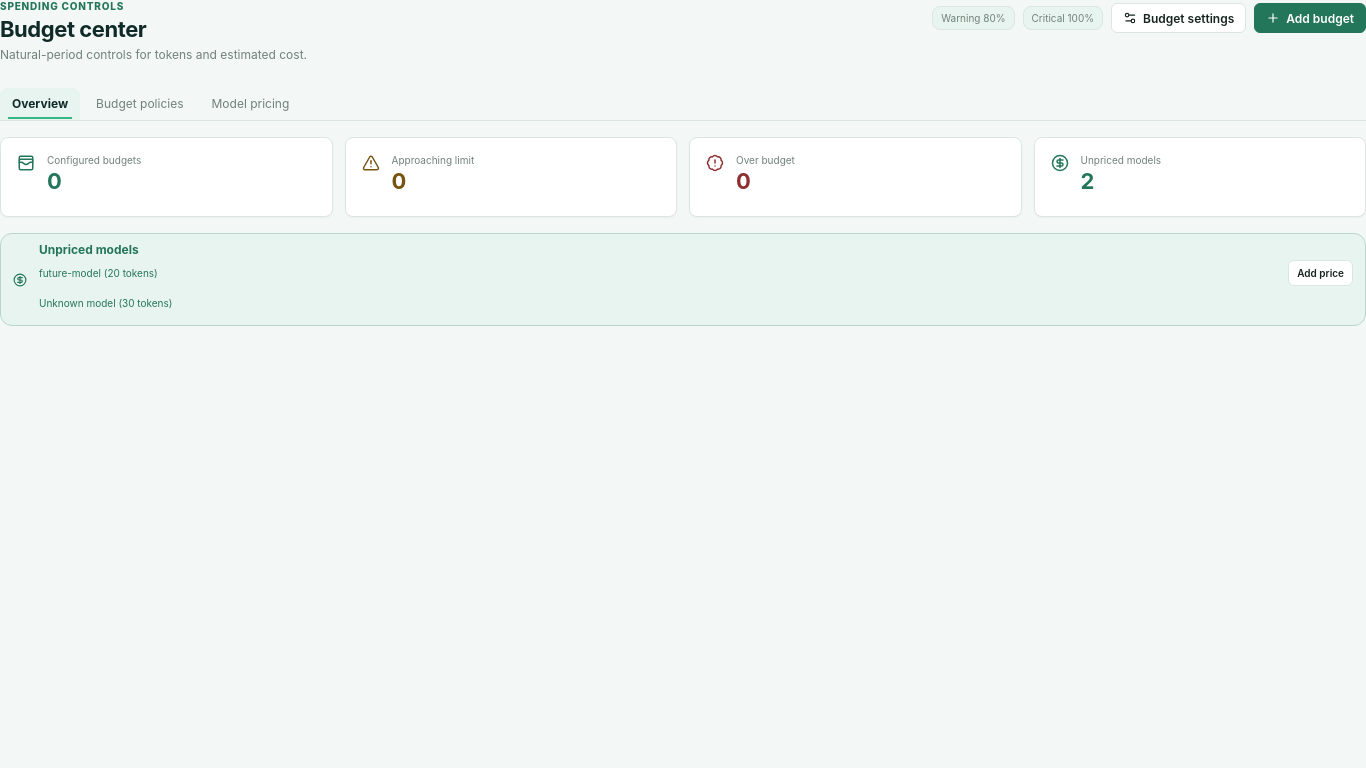
Scenario: BudgetsView model options › navigates from an unpriced alert to a prefilled pricing editor
Step 1. Click the button "Add price" → (1321, 273), box left=1288, top=260, right=1353, bottom=286
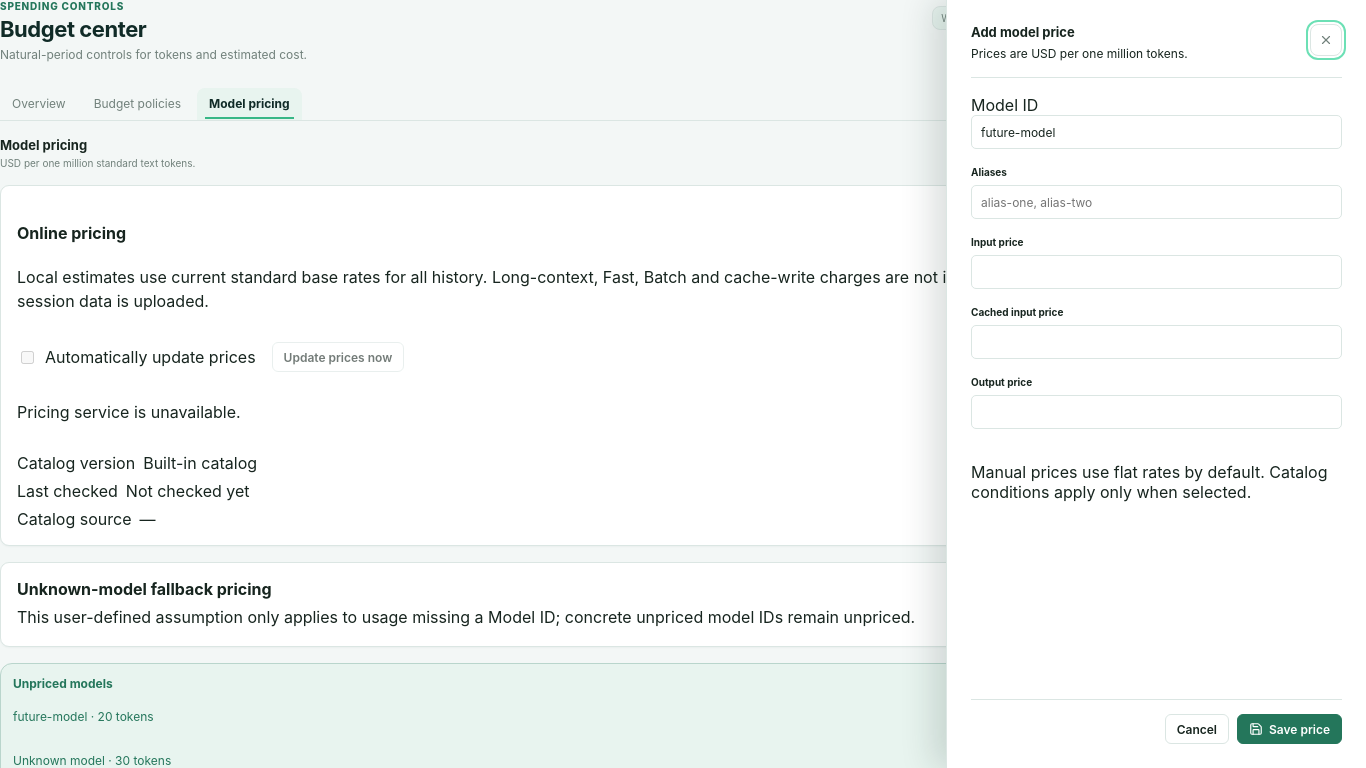
Result: the dropdown labelled "Model ID" holds "future-model" at left=971, top=115, right=1342, bottom=149
